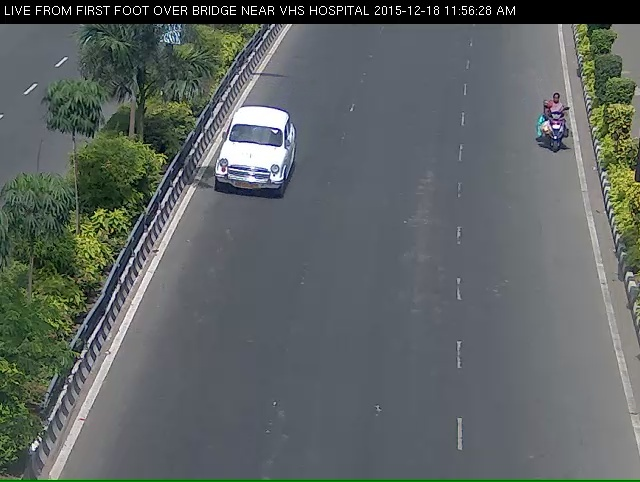Car: (209, 108, 284, 213)
Person: (535, 100, 577, 165)
